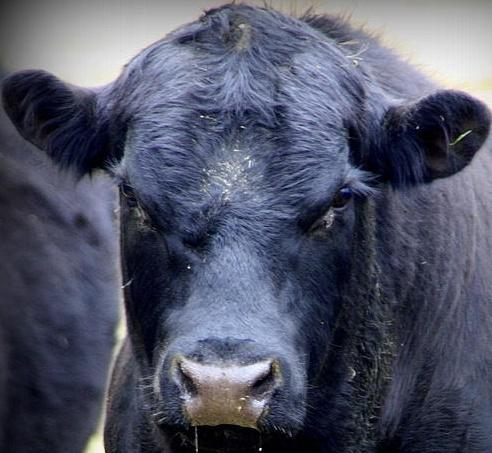muzzles: (149, 337, 308, 447)
